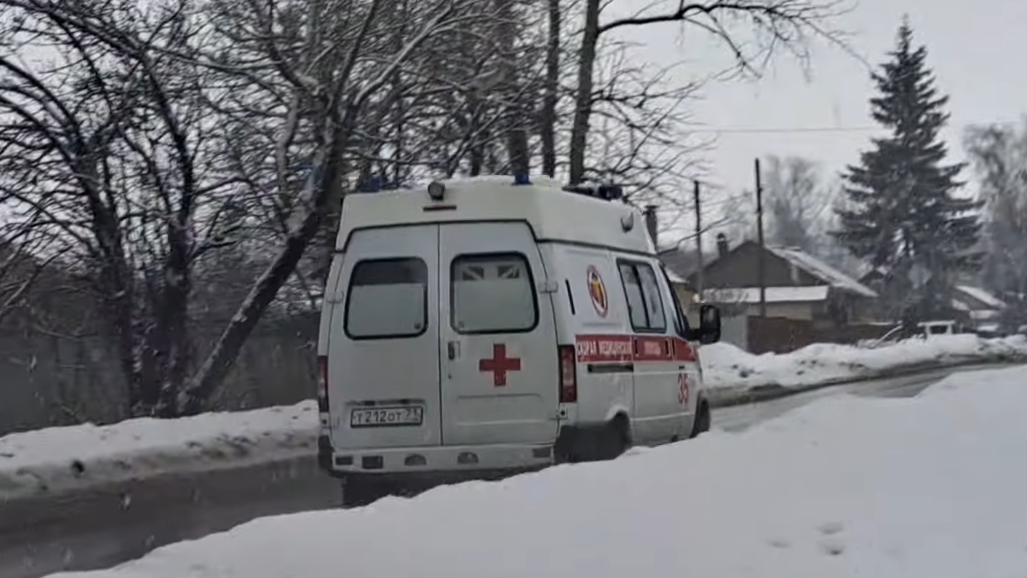ambulance: (320, 181, 712, 488)
